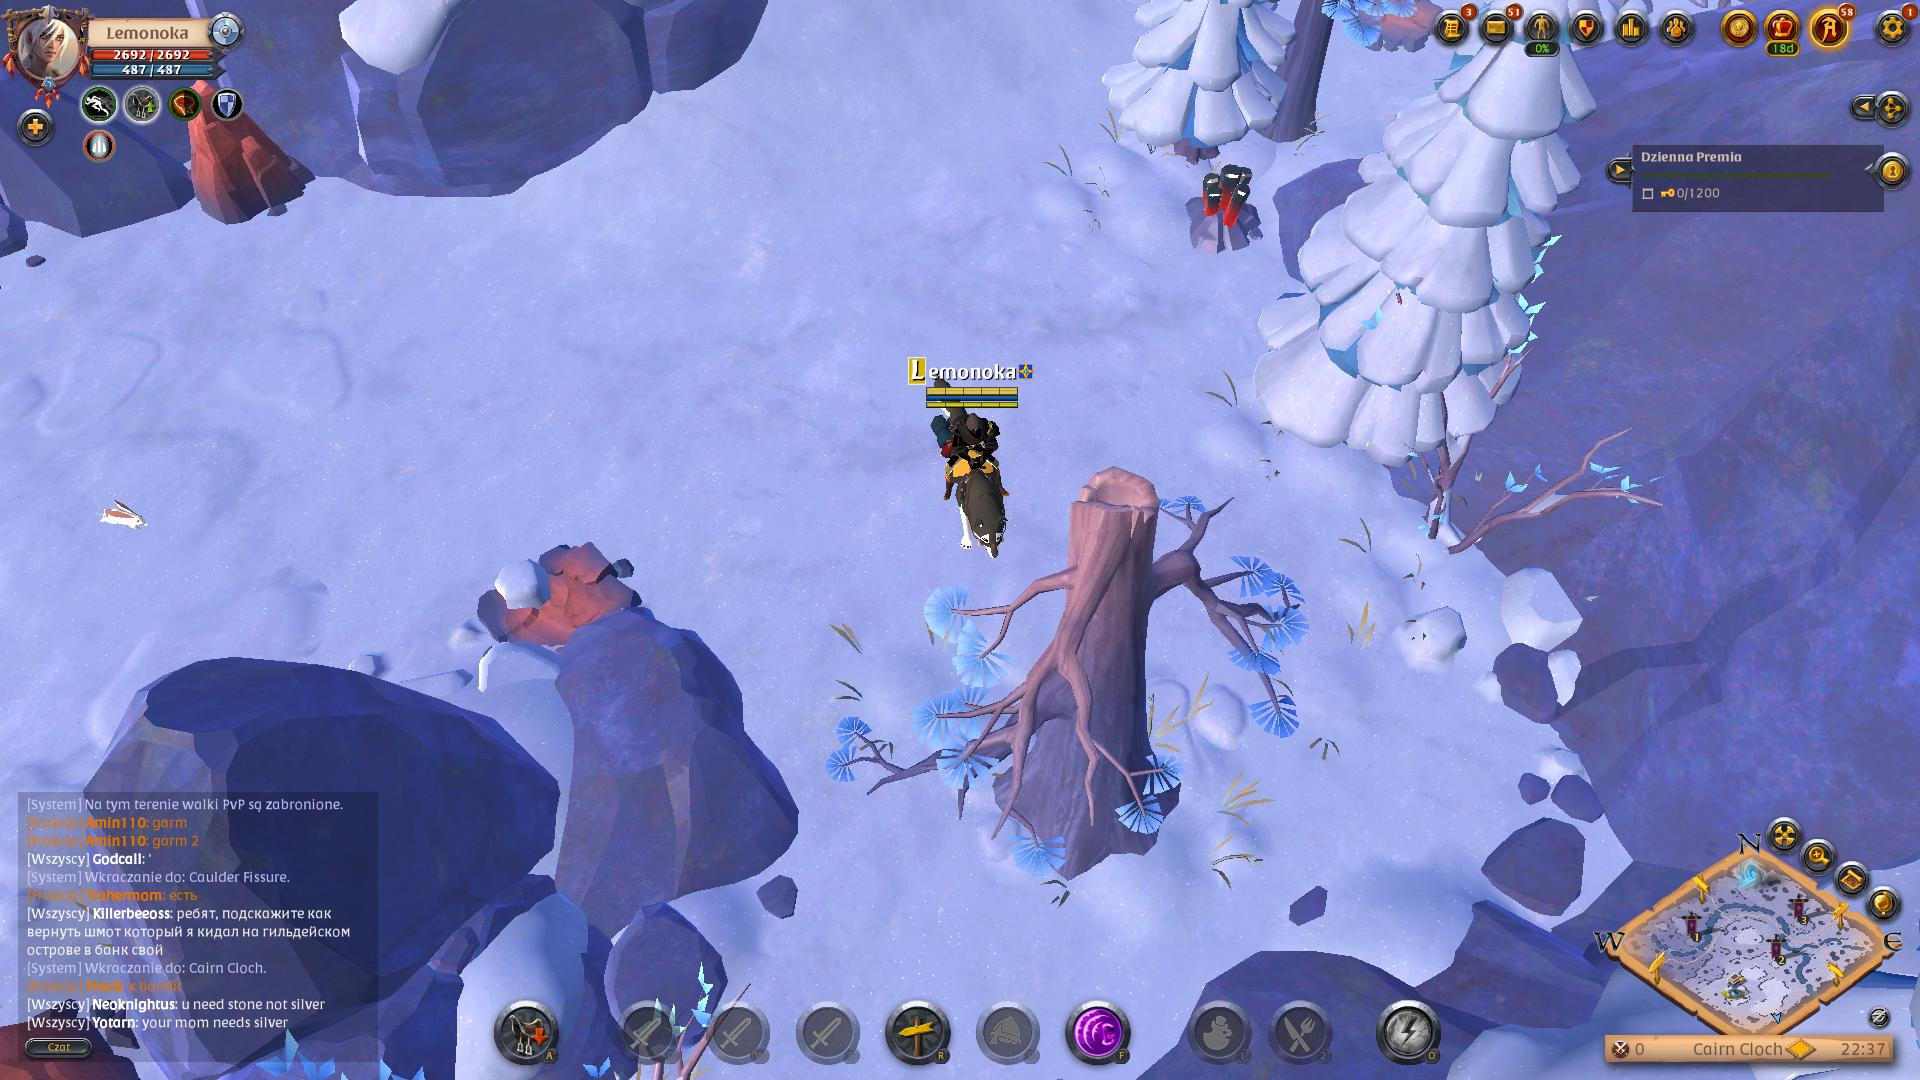ore tier 5: (1183, 158, 1265, 253)
